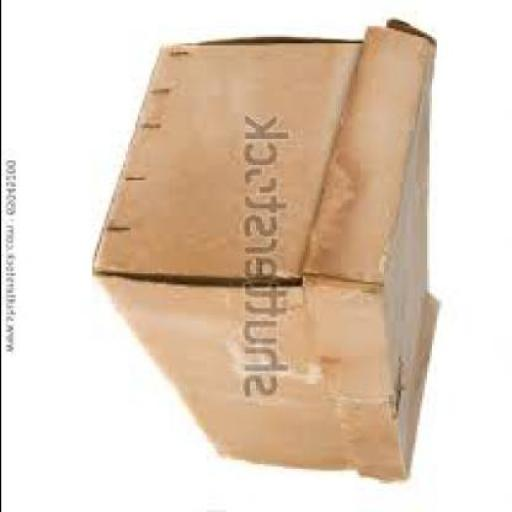cardboard: (96, 25, 442, 492)
